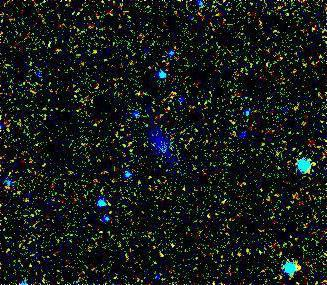star: (285, 253, 315, 283)
